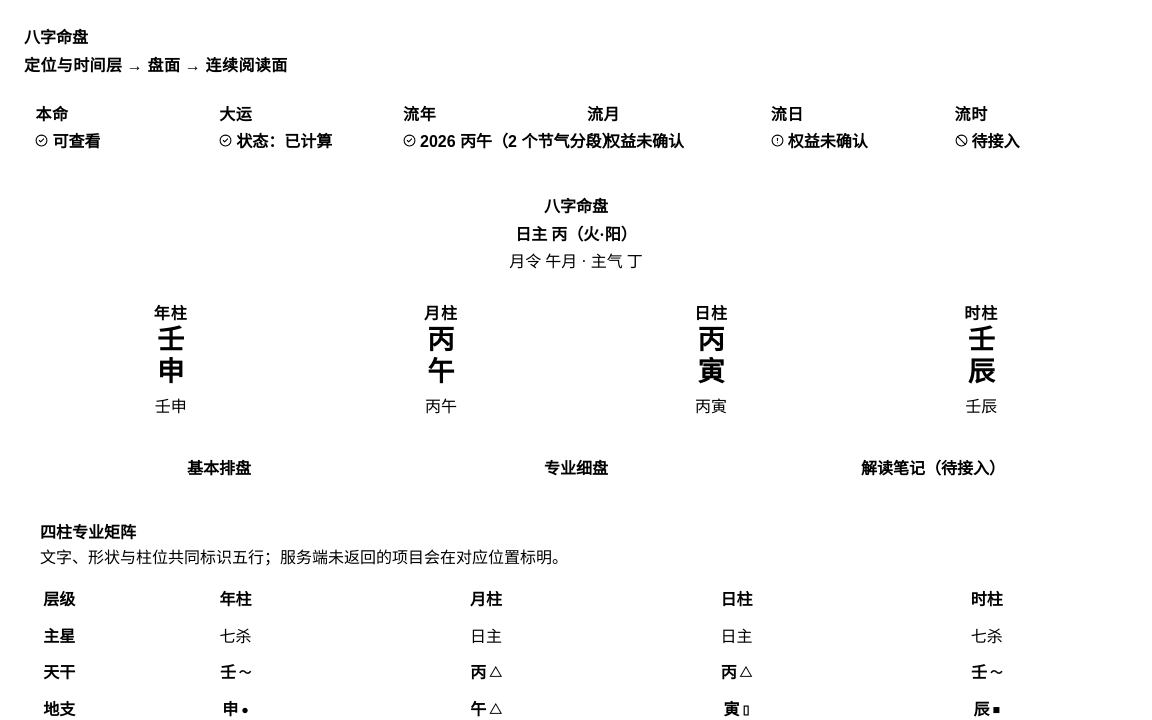
Test: BaziChart fact-density workspace › keeps the basic and professional disclosures distinct while notes stay unavailable
Expected: the row "主星 七杀 日主 日主 七杀" is shown, x1=40 y1=618 x2=1112 y2=655
Expected: the 1st element showing "丙 △" is shown, x1=470 y1=662 x2=502 y2=685
Click the button "基本排盘" at (219,467), box x1=41 y1=445 x2=397 y2=489
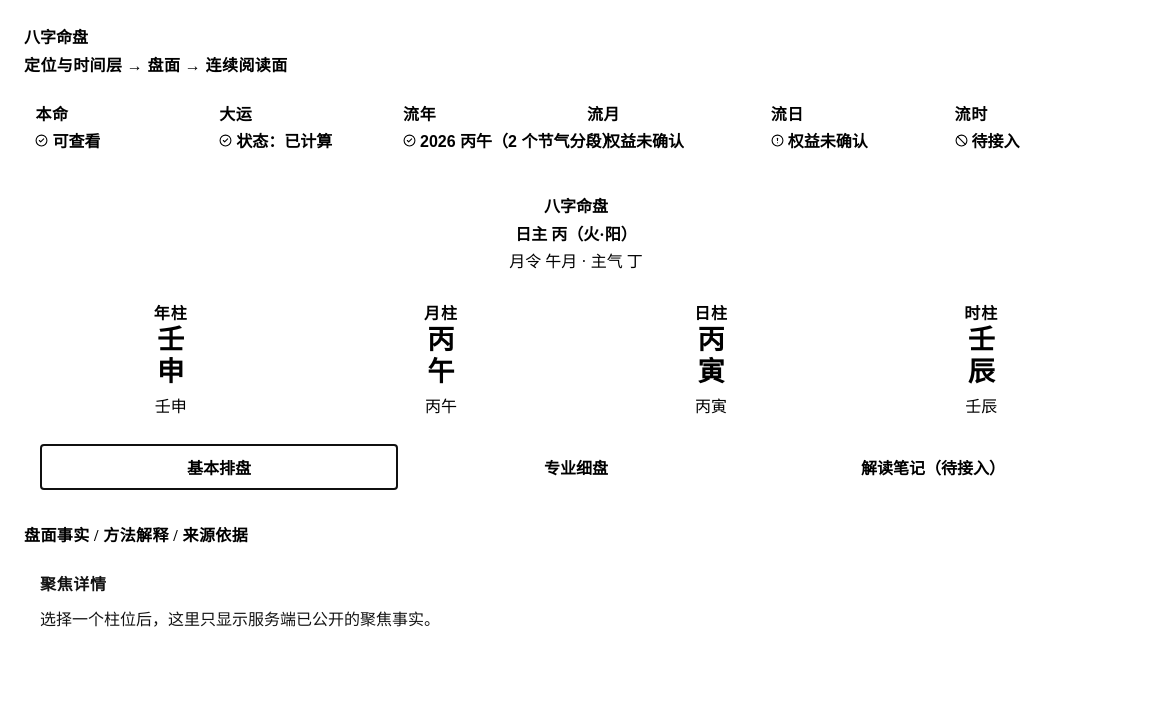
Expected: the text "候选事实" is not shown
Expected: the heading "四柱专业矩阵" is gone
Click the button "专业细盘" at (576,467), box x1=398 y1=445 x2=754 y2=489
(page scrolled)
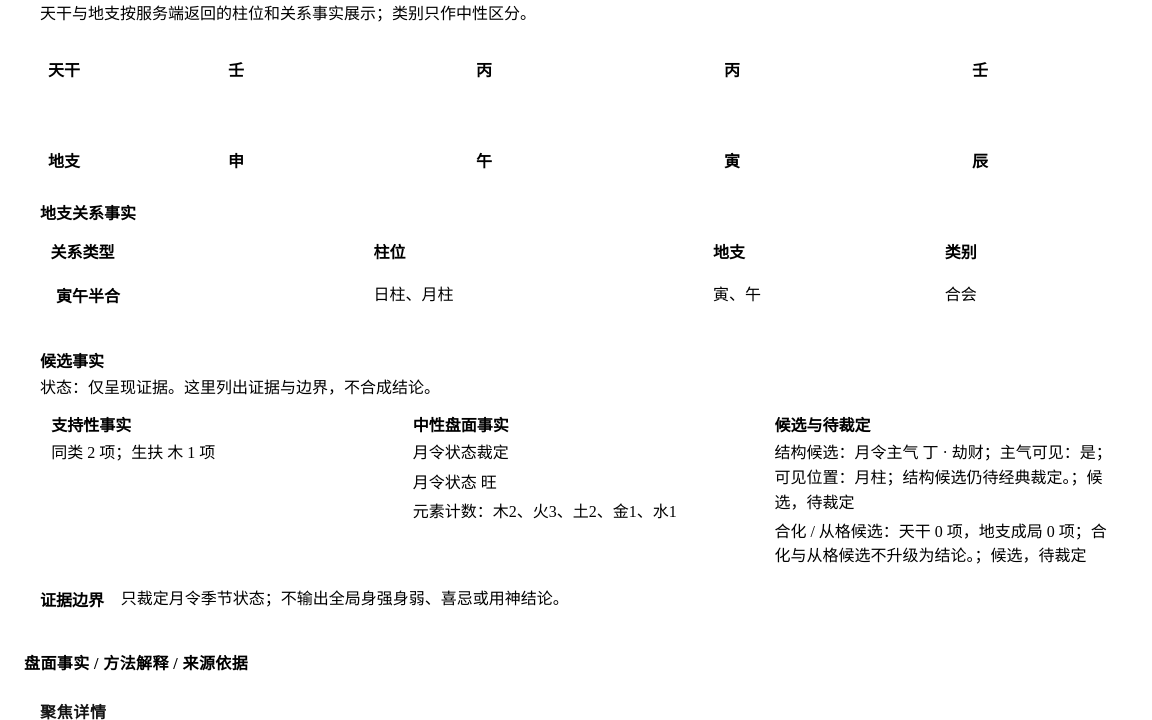
Expected: the heading "候选事实" is shown, x1=40 y1=354 x2=104 y2=370
